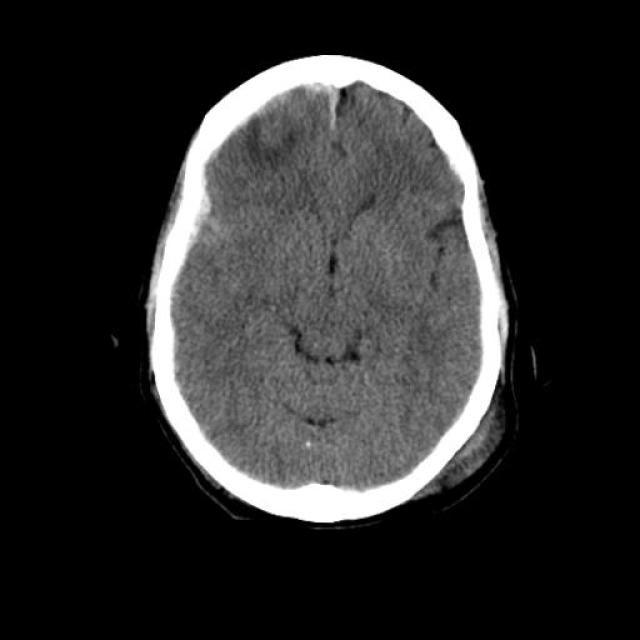Subdural: (173, 71, 339, 242)
